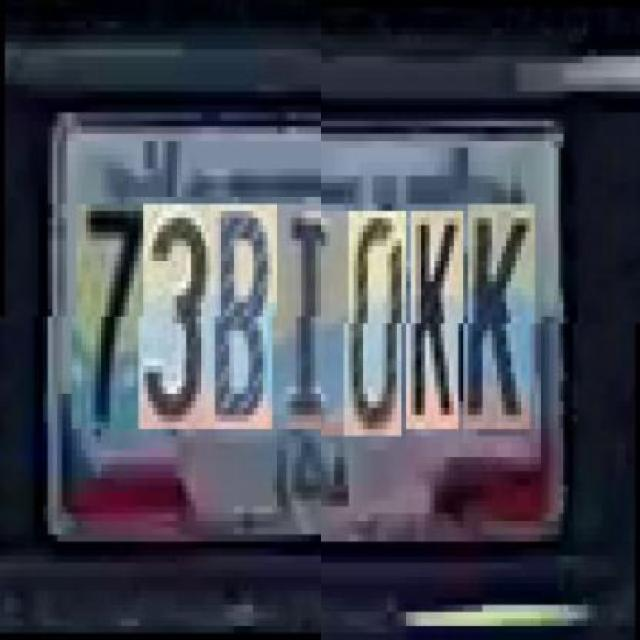0: (348, 212, 407, 436)
3: (142, 212, 210, 436)
7: (76, 212, 144, 436)
b: (210, 212, 278, 436)
i: (277, 212, 349, 436)
k: (468, 204, 535, 428), (410, 211, 464, 429)
